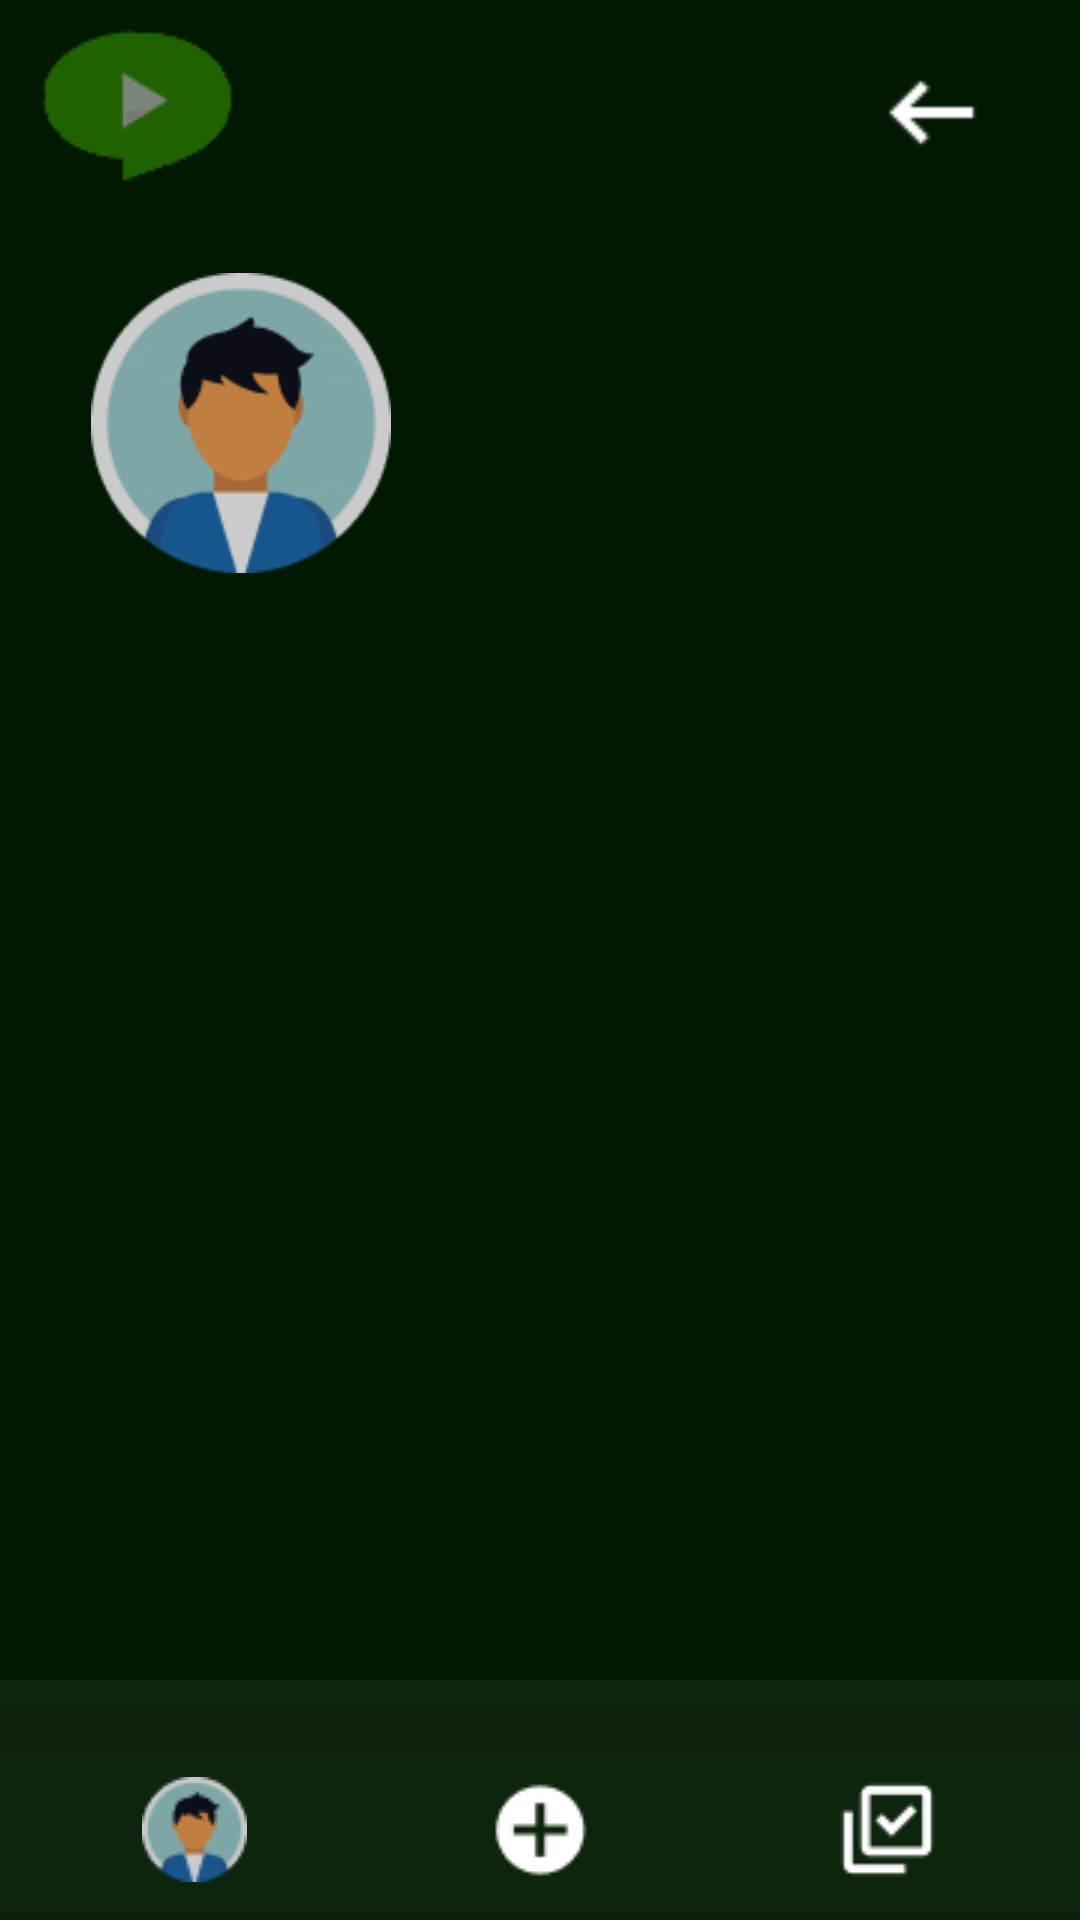

Icons on this 1080×1920 Android screen, each with its box as (x1, y1, x2, y2):
perfilgrande: (91, 273, 391, 573)
